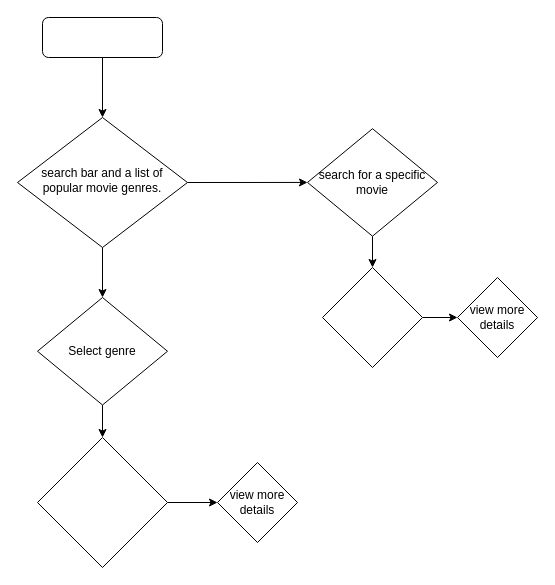
Some shapes in this 555 by 585 pixel diagram are drawn without their labels. Each missing label, with the centre of its shape:
"Home" goes at pixel 102 37.
"list of movies in that genre" goes at pixel 102 502.
"list of search results" goes at pixel 372 317.
